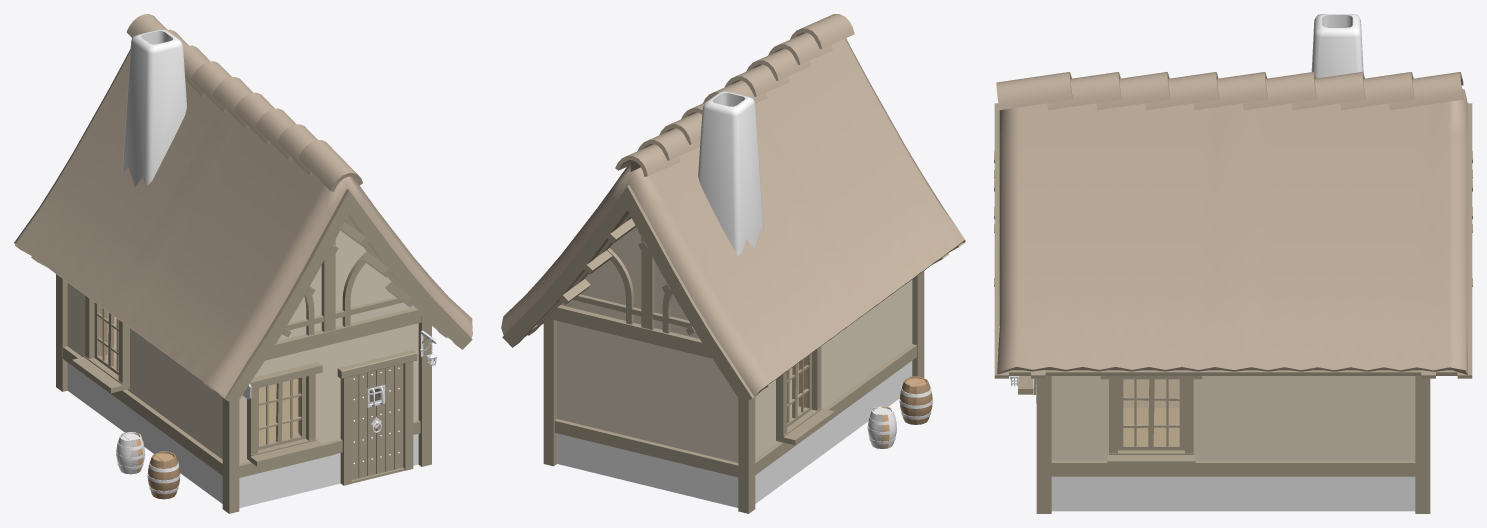
File: eastbrook_smokehouse.glb
3 renders of one model, left to right at view 1: azimuth 30°, elevation 25°; view 2: azimuth 150°, elevation 25°; view 3: azimuth 270°, elevation 25°, orthographic. The views are drawn at different scales.
Visible parts, largest first — view 1: civic-smokehouse:roof:village/MI_RoundTiles, civic-smokehouse:structure:village/MI_Plaster, civic-smokehouse:roof:village/MI_WoodTrim, civic-smokehouse:structure:village/MI_WoodTrim, civic-smokehouse:window:village/MI_WoodTrim, civic-smokehouse:roof:village/MI_UnevenBrick, civic-smokehouse:structure:village/MI_UnevenBrick, civic-smokehouse:entry-leaf:village/MI_WoodTrim_Wear, civic-smokehouse:roof:village/MI_Plaster, civic-smokehouse:furniture:props/MI_Trim_Furniture (×2), civic-smokehouse:floor:village/MI_WoodTrim, civic-smokehouse:structure:village/MI_RockTrim (+1 smaller); view 2: civic-smokehouse:roof:village/MI_RoundTiles, civic-smokehouse:structure:village/MI_Plaster, civic-smokehouse:roof:village/MI_WoodTrim, civic-smokehouse:structure:village/MI_WoodTrim, civic-smokehouse:structure:village/MI_UnevenBrick, civic-smokehouse:roof:village/MI_UnevenBrick, civic-smokehouse:roof:village/MI_Plaster, civic-smokehouse:window:village/MI_WoodTrim, civic-smokehouse:furniture:props/MI_Trim_Furniture (×2); view 3: civic-smokehouse:roof:village/MI_RoundTiles, civic-smokehouse:structure:village/MI_Plaster, civic-smokehouse:structure:village/MI_UnevenBrick, civic-smokehouse:structure:village/MI_WoodTrim, civic-smokehouse:roof:village/MI_WoodTrim, civic-smokehouse:window:village/MI_WoodTrim, civic-smokehouse:roof:village/MI_UnevenBrick, civic-smokehouse:floor:village/MI_WoodTrim.
Part boxes in pixels (left/top/right/bottom): civic-smokehouse:roof:village/MI_RoundTiles: left=14, top=14, right=472, bottom=398; civic-smokehouse:structure:village/MI_Plaster: left=67, top=283, right=418, bottom=463; civic-smokehouse:roof:village/MI_WoodTrim: left=15, top=189, right=472, bottom=404; civic-smokehouse:structure:village/MI_WoodTrim: left=56, top=274, right=431, bottom=513; civic-smokehouse:window:village/MI_WoodTrim: left=72, top=295, right=380, bottom=466; civic-smokehouse:roof:village/MI_UnevenBrick: left=122, top=29, right=186, bottom=186; civic-smokehouse:structure:village/MI_UnevenBrick: left=67, top=362, right=327, bottom=507; civic-smokehouse:entry-leaf:village/MI_WoodTrim_Wear: left=351, top=364, right=403, bottom=479; civic-smokehouse:roof:village/MI_Plaster: left=278, top=230, right=414, bottom=340; civic-smokehouse:furniture:props/MI_Trim_Furniture (×2): left=116, top=432, right=179, bottom=499; civic-smokehouse:floor:village/MI_WoodTrim: left=259, top=379, right=298, bottom=441; civic-smokehouse:structure:village/MI_RockTrim: left=327, top=434, right=418, bottom=486; civic-smokehouse:roof:village/MI_RoundTiles: left=501, top=14, right=965, bottom=396; civic-smokehouse:structure:village/MI_Plaster: left=557, top=280, right=912, bottom=462; civic-smokehouse:roof:village/MI_WoodTrim: left=502, top=185, right=965, bottom=403; civic-smokehouse:structure:village/MI_WoodTrim: left=543, top=271, right=924, bottom=513; civic-smokehouse:structure:village/MI_UnevenBrick: left=557, top=361, right=912, bottom=507; civic-smokehouse:roof:village/MI_UnevenBrick: left=698, top=91, right=763, bottom=255; civic-smokehouse:roof:village/MI_Plaster: left=560, top=227, right=699, bottom=338; civic-smokehouse:window:village/MI_WoodTrim: left=776, top=346, right=834, bottom=445; civic-smokehouse:furniture:props/MI_Trim_Furniture (×2): left=868, top=376, right=932, bottom=448; civic-smokehouse:roof:village/MI_RoundTiles: left=996, top=72, right=1467, bottom=374; civic-smokehouse:structure:village/MI_Plaster: left=1051, top=376, right=1415, bottom=460; civic-smokehouse:structure:village/MI_UnevenBrick: left=1051, top=476, right=1415, bottom=511; civic-smokehouse:structure:village/MI_WoodTrim: left=1035, top=376, right=1430, bottom=513; civic-smokehouse:roof:village/MI_WoodTrim: left=994, top=103, right=1472, bottom=378; civic-smokehouse:window:village/MI_WoodTrim: left=1018, top=376, right=1202, bottom=466; civic-smokehouse:roof:village/MI_UnevenBrick: left=1311, top=14, right=1363, bottom=78; civic-smokehouse:floor:village/MI_WoodTrim: left=1123, top=408, right=1179, bottom=441.
Size of the model in its own units: 5.75 by 7.24 by 7.59.
